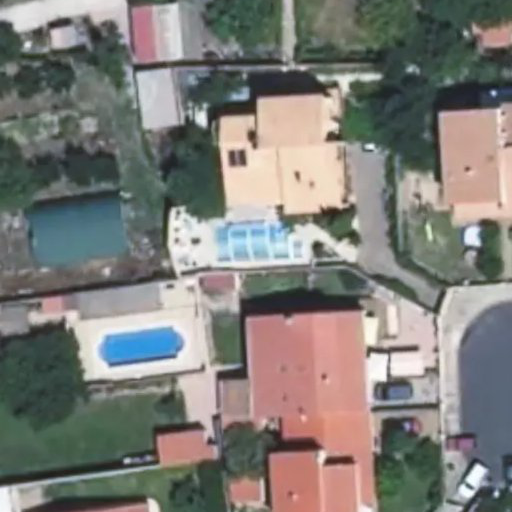pool: (216, 224, 295, 258)
